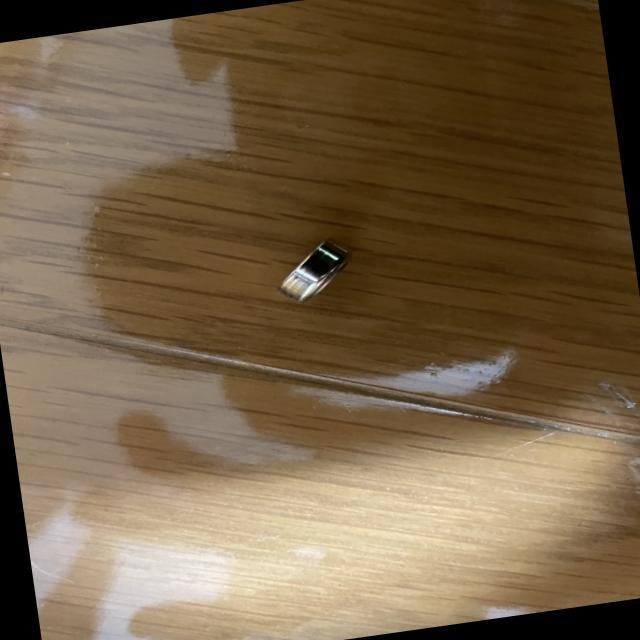COIN: (270, 236, 358, 305)
